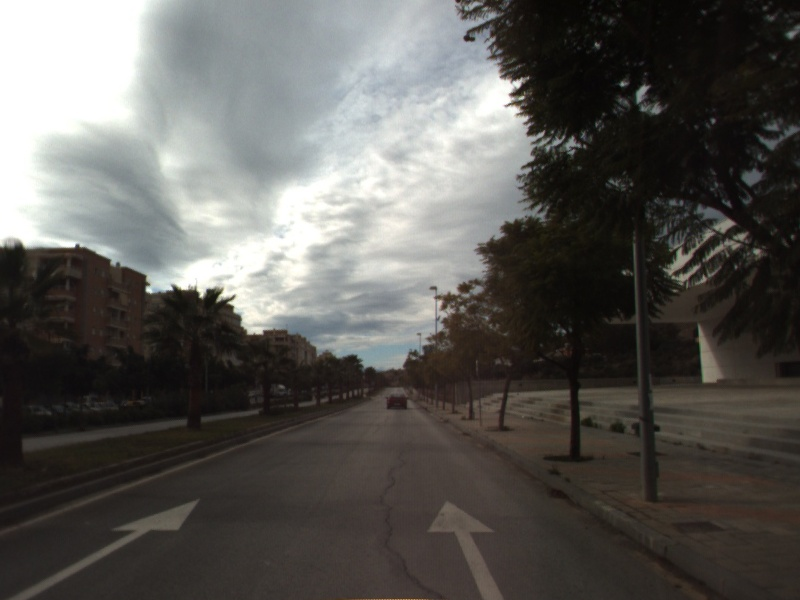STRAIGHT: (3, 496, 203, 600), (425, 497, 507, 600)
